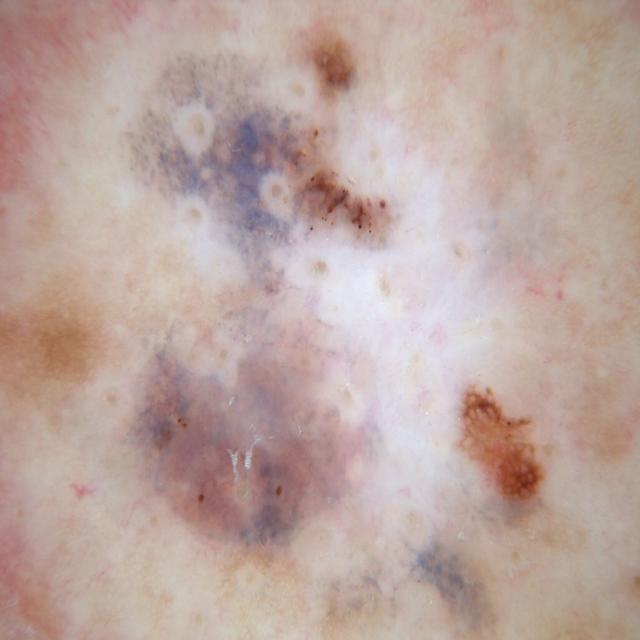Skin-Cancer Melanoma: (74, 22, 562, 640)
